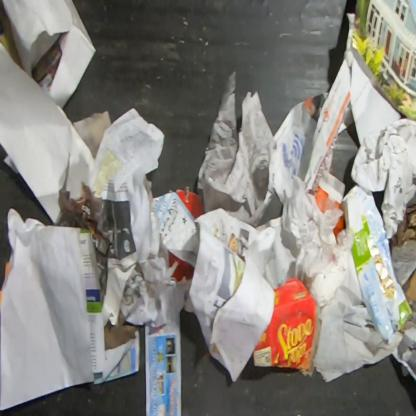cardboard: (253, 276, 317, 373), (175, 185, 204, 219), (169, 252, 194, 280), (405, 268, 415, 306)
